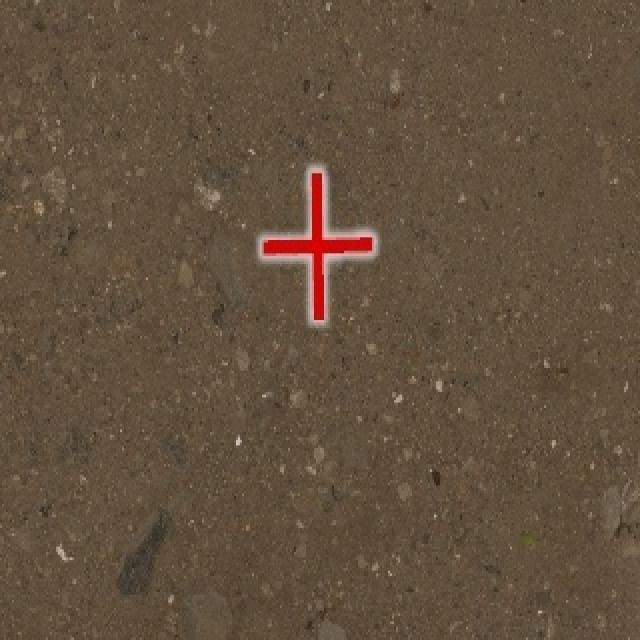x_marker: (261, 169, 373, 319)
